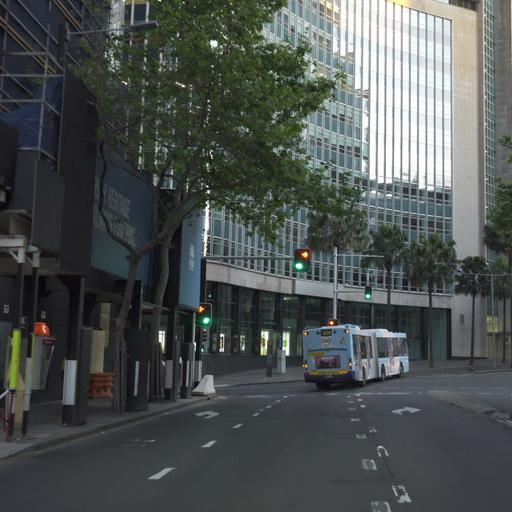Street light: (20, 16, 159, 436), (63, 18, 159, 41), (293, 247, 311, 272), (196, 302, 212, 328), (363, 284, 372, 300)
